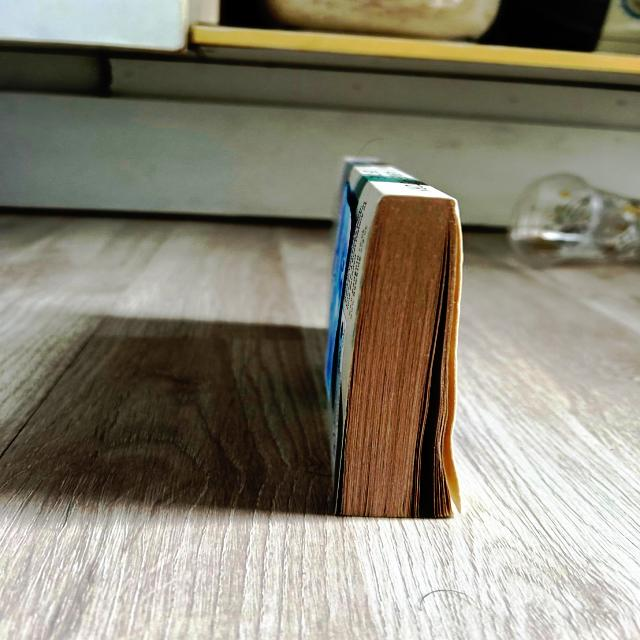Book: (326, 160, 463, 517)
